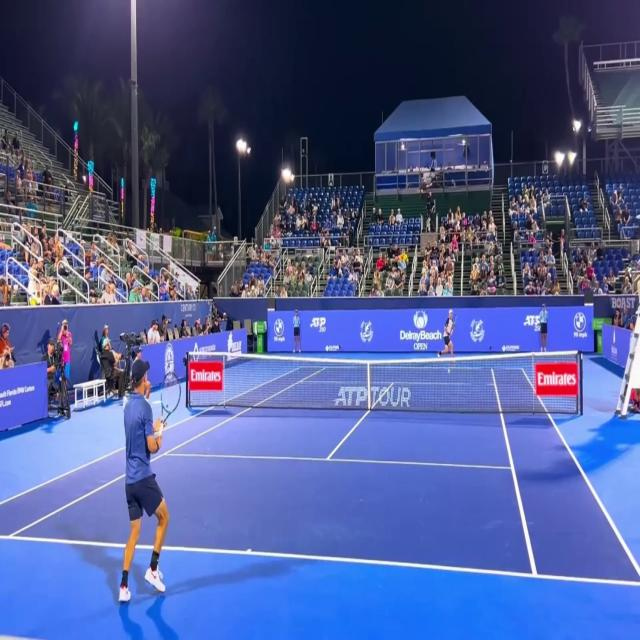tennisBall: (444, 362, 454, 380)
